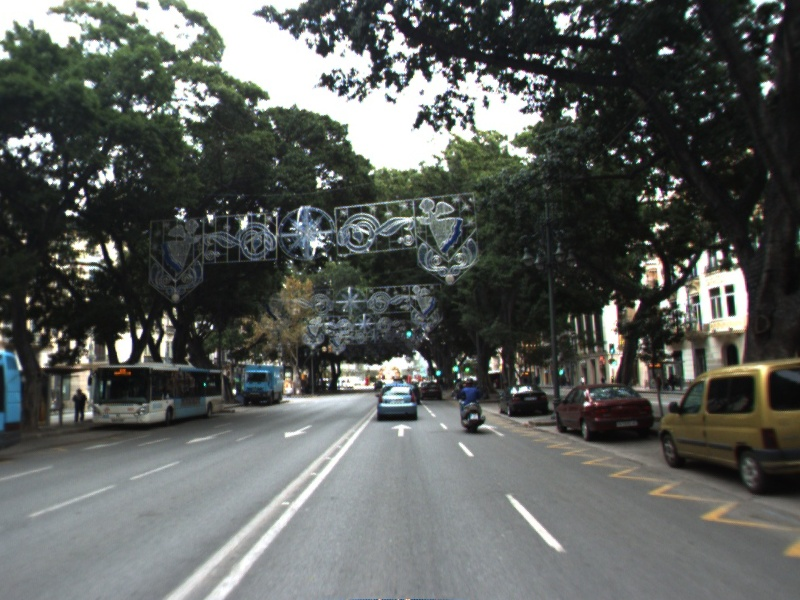STRAIGHT: (476, 422, 506, 438), (389, 422, 414, 438)
